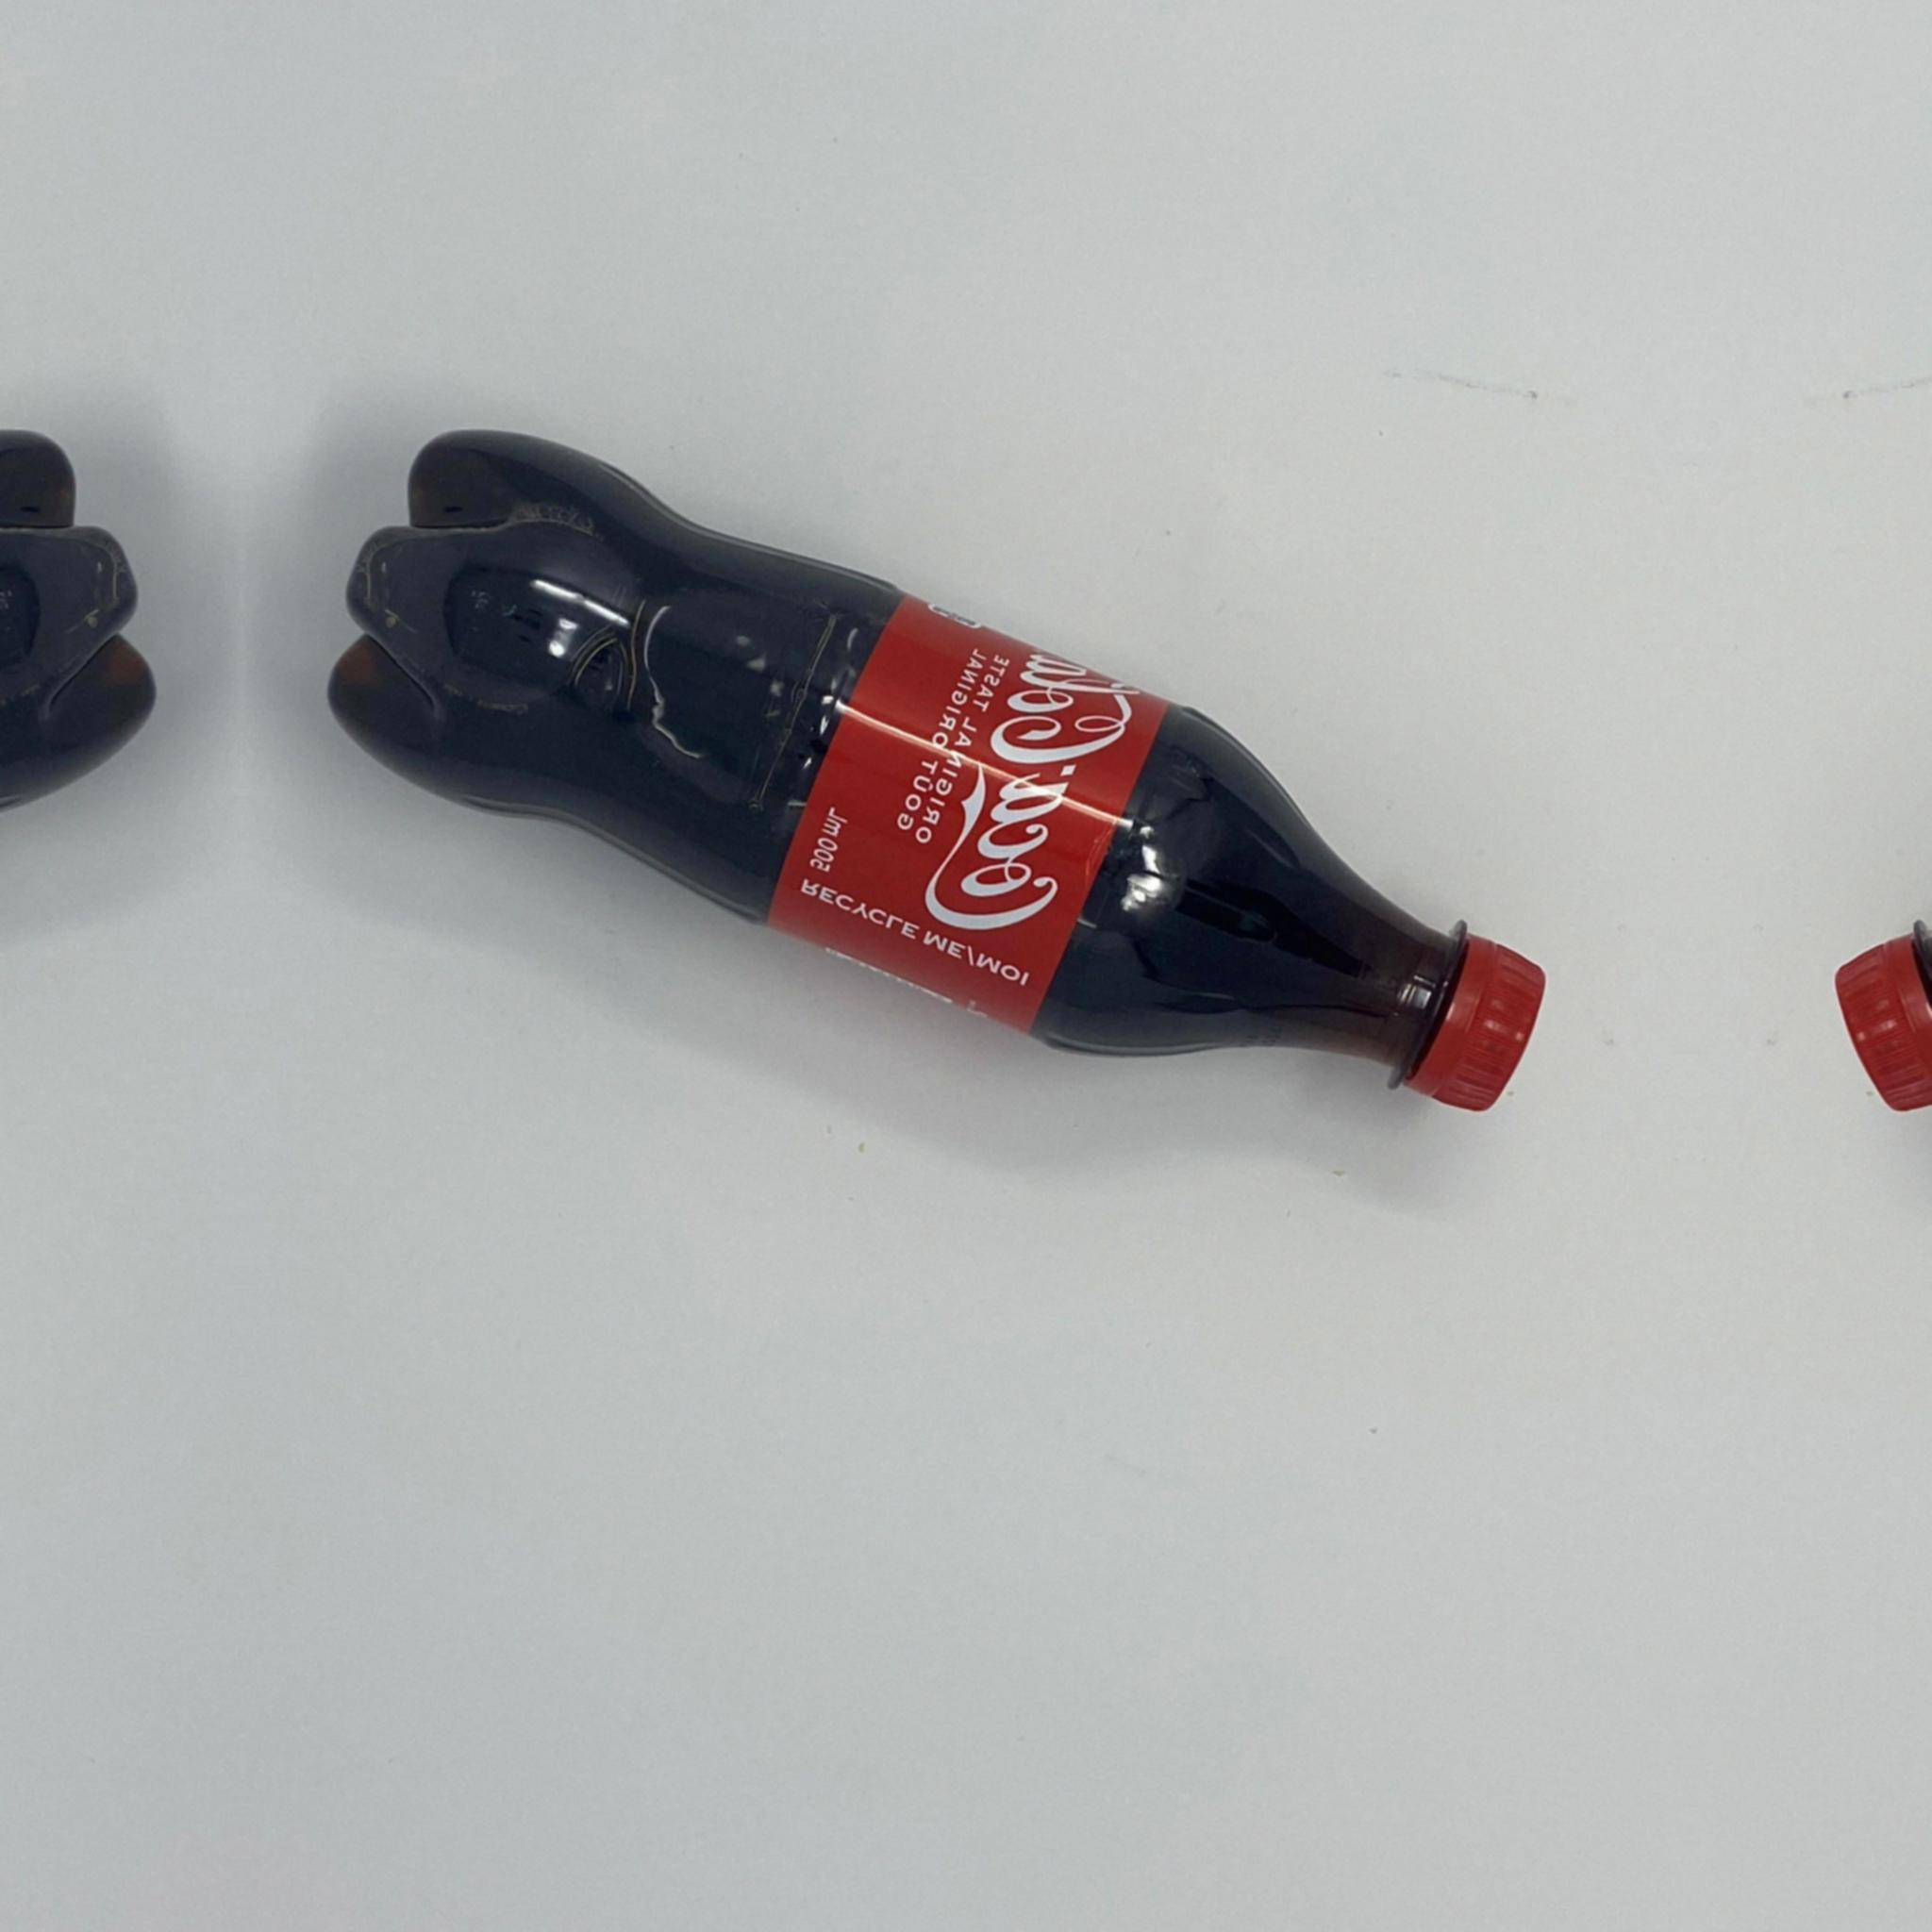PET: (327, 425, 1548, 1113)
cocacola: (327, 425, 1548, 1113)
plastic: (327, 425, 1548, 1113)
soft-drink: (327, 425, 1548, 1113)
